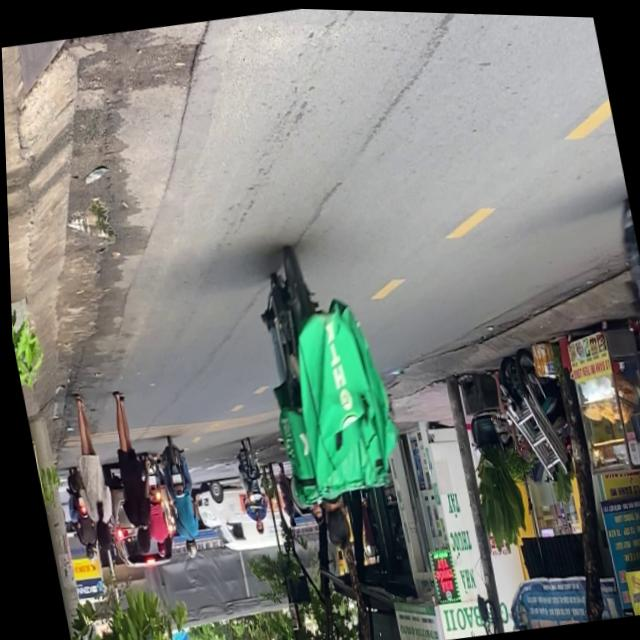licenseplate: (238, 229, 419, 568)
motorcyclist: (313, 494, 352, 550)
